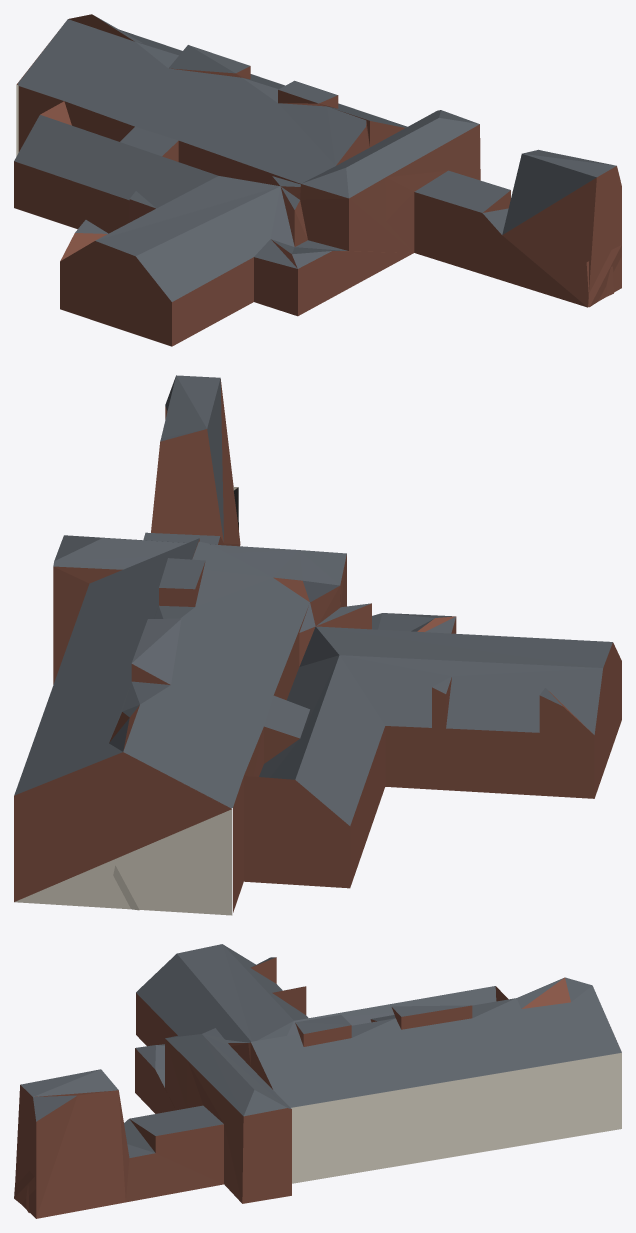
Rendered from hollandsche-manege.lod2.glb.
The picture shows the model from 3 angles, top to bottom: view 1: azimuth 30°, elevation 25°; view 2: azimuth 150°, elevation 25°; view 3: azimuth 270°, elevation 25°; orthographic projection. The views are drawn at different scales.
Parts seen in each view (by area): view 1: lod2; view 2: lod2; view 3: lod2.
Boxes of the visible parts, x1,y1,x2,y2 form: lod2: (14,14,621,346); lod2: (14,375,621,915); lod2: (14,944,621,1218).
Size of the model in its own units: 59.83 by 16.98 by 74.85.
